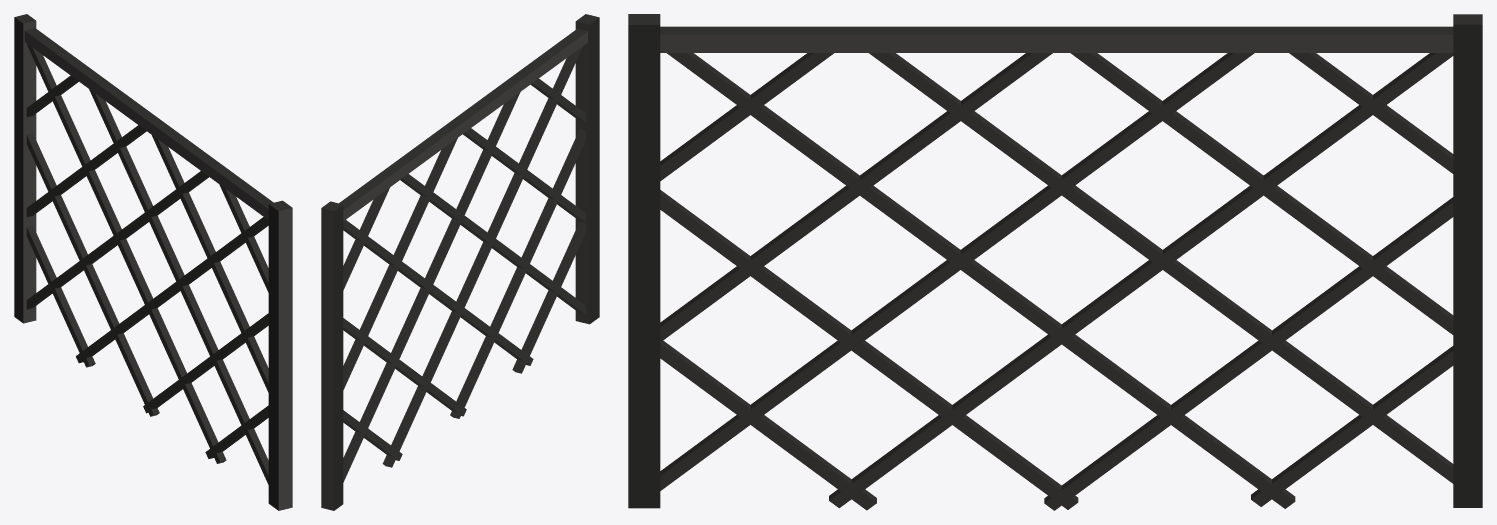
Rendered from Fence_full.fbx.
3 views of the same model, side by side, from view 1: azimuth 30°, elevation 25°; view 2: azimuth 150°, elevation 25°; view 3: azimuth 270°, elevation 25° (orthographic). The views are drawn at different scales.
Parts seen in each view (by area): view 1: FenceAll; view 2: FenceAll; view 3: FenceAll.
Part boxes in pixels (x1,y1,x2,y2): FenceAll: [14, 14, 292, 510]; FenceAll: [321, 14, 599, 510]; FenceAll: [628, 14, 1482, 510].
Size of the model in its own units: 7.58 by 157 by 249.
